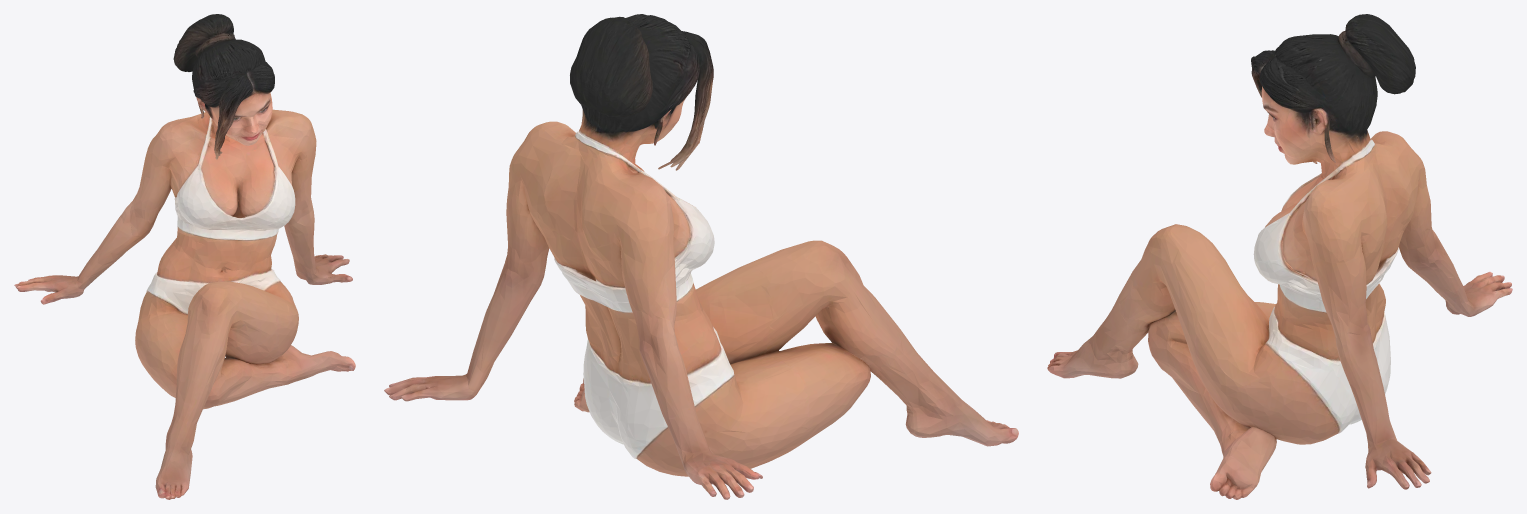
Rendered from woman-seated-b.glb.
3 views of the same model, side by side, from view 1: azimuth 30°, elevation 25°; view 2: azimuth 150°, elevation 25°; view 3: azimuth 270°, elevation 25° (orthographic). The views are drawn at different scales.
Visible parts, largest first — view 1: Mesh_0_modddif_material_0_0; view 2: Mesh_0_modddif_material_0_0; view 3: Mesh_0_modddif_material_0_0.
Boxes of the visible parts, <box> form: Mesh_0_modddif_material_0_0: <box>14,14,355,499</box>; Mesh_0_modddif_material_0_0: <box>384,14,1018,499</box>; Mesh_0_modddif_material_0_0: <box>1047,14,1512,499</box>.
Size of the model in its own units: 0.9626 by 0.9991 by 0.9267.
Materials: 1 (1 with a texture image).
